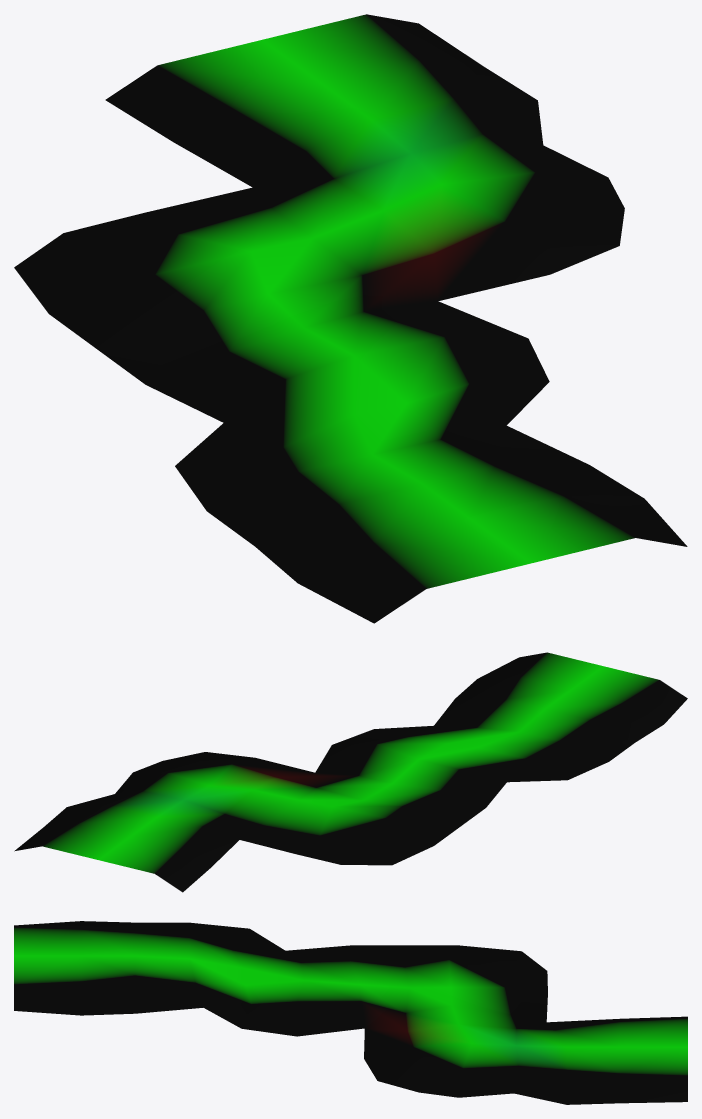
File: Section_WayLine03_Swamp_Terrain.fbx
3 views of the same model, one above another, from view 1: azimuth 30°, elevation 25°; view 2: azimuth 150°, elevation 25°; view 3: azimuth 270°, elevation 25° (orthographic). The views are drawn at different scales.
Visible parts, largest first — view 1: Section_WayLine03_Swamp_Terrain; view 2: Section_WayLine03_Swamp_Terrain; view 3: Section_WayLine03_Swamp_Terrain.
Boxes of the visible parts, left/top/right/bottom form: Section_WayLine03_Swamp_Terrain: left=14, top=14, right=687, bottom=623; Section_WayLine03_Swamp_Terrain: left=14, top=652, right=687, bottom=892; Section_WayLine03_Swamp_Terrain: left=14, top=921, right=687, bottom=1104.
Size of the model in its own units: 3227 by 100 by 5000.
